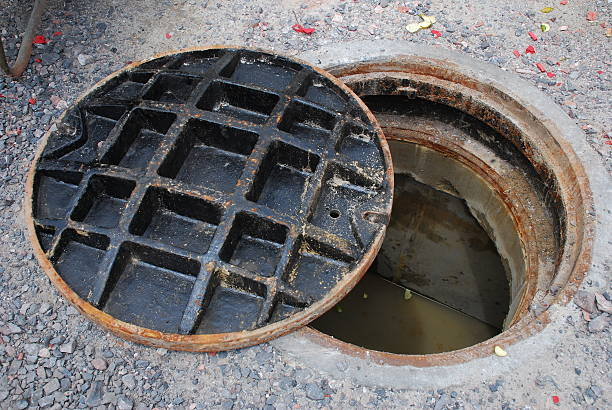open_manhole: (317, 57, 576, 349)
